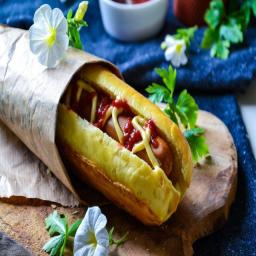hotdog: (0, 46, 192, 223)
